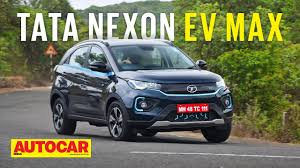Tata Nexon: (46, 37, 234, 144)
